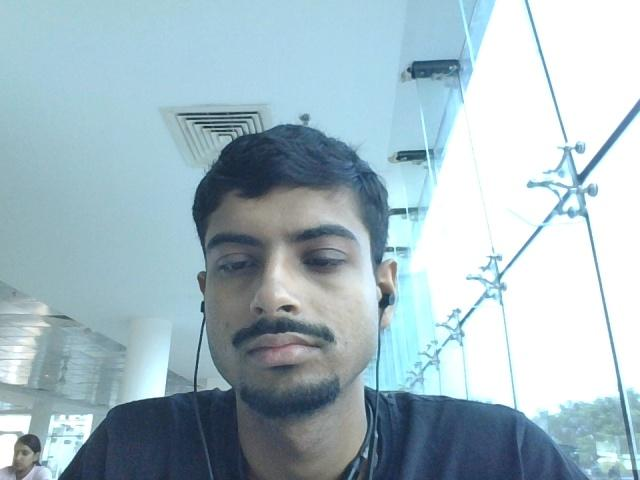nervous: (180, 126, 414, 415)
